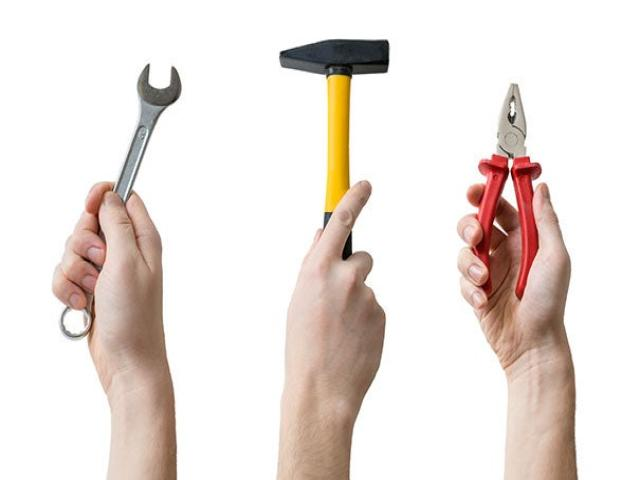Hammer: (280, 39, 389, 222)
Hand: (52, 183, 175, 479), (458, 183, 575, 478), (279, 182, 385, 478)
Pliers: (474, 83, 541, 298), (114, 63, 181, 201)
